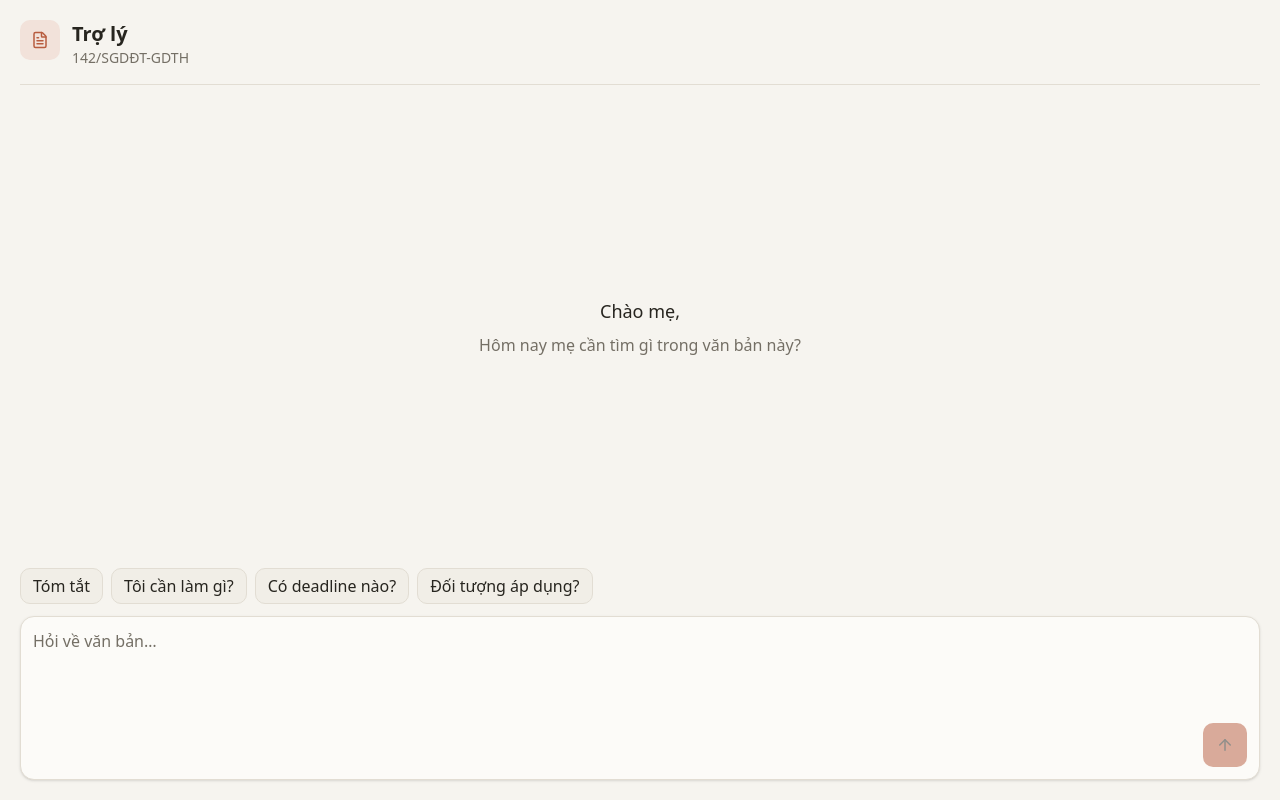
Test: AssistantPanel › submits a question through the document QA endpoint and renders the answer via AnswerView
Type "Văn bản yêu cầu gì?" into the text box named "Câu hỏi" at (640, 669), box [33,629,1247,709]
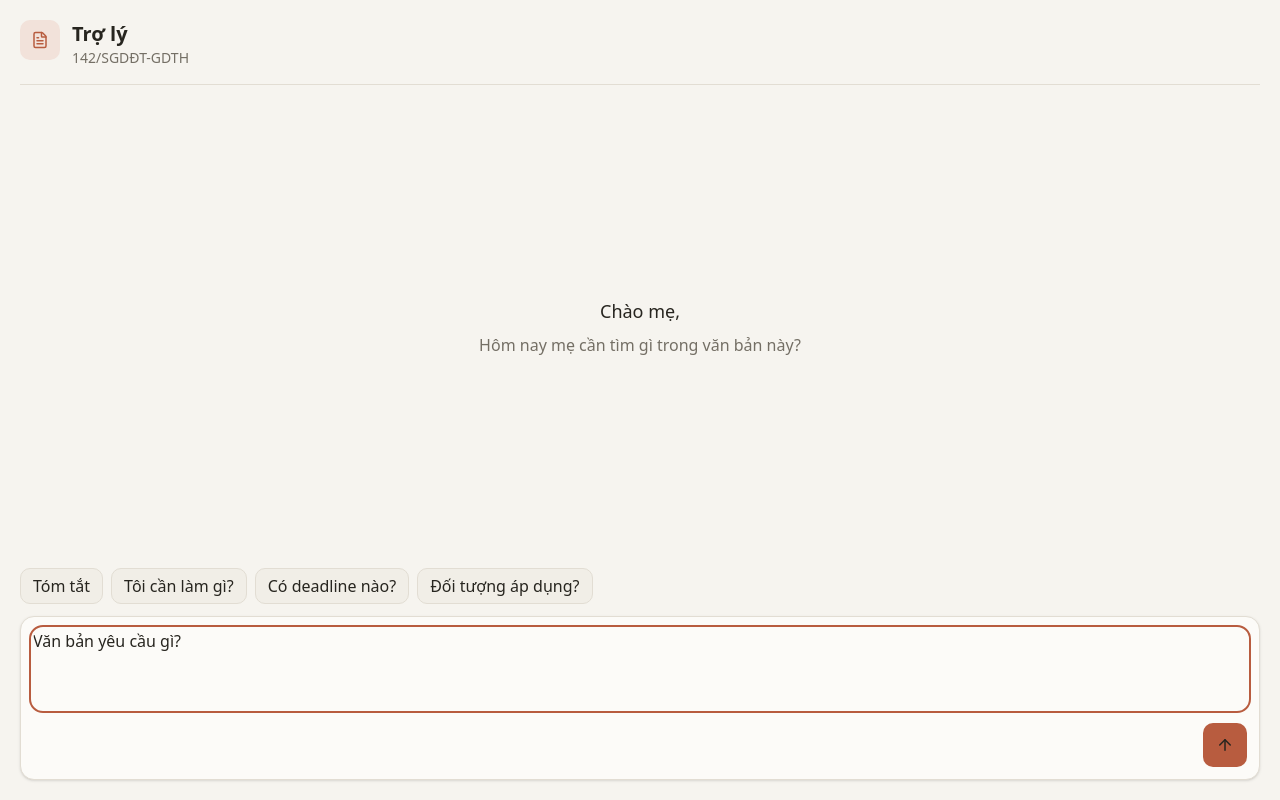
Click the button named "Gửi câu hỏi" at (1225, 745), box [1203,723,1247,767]
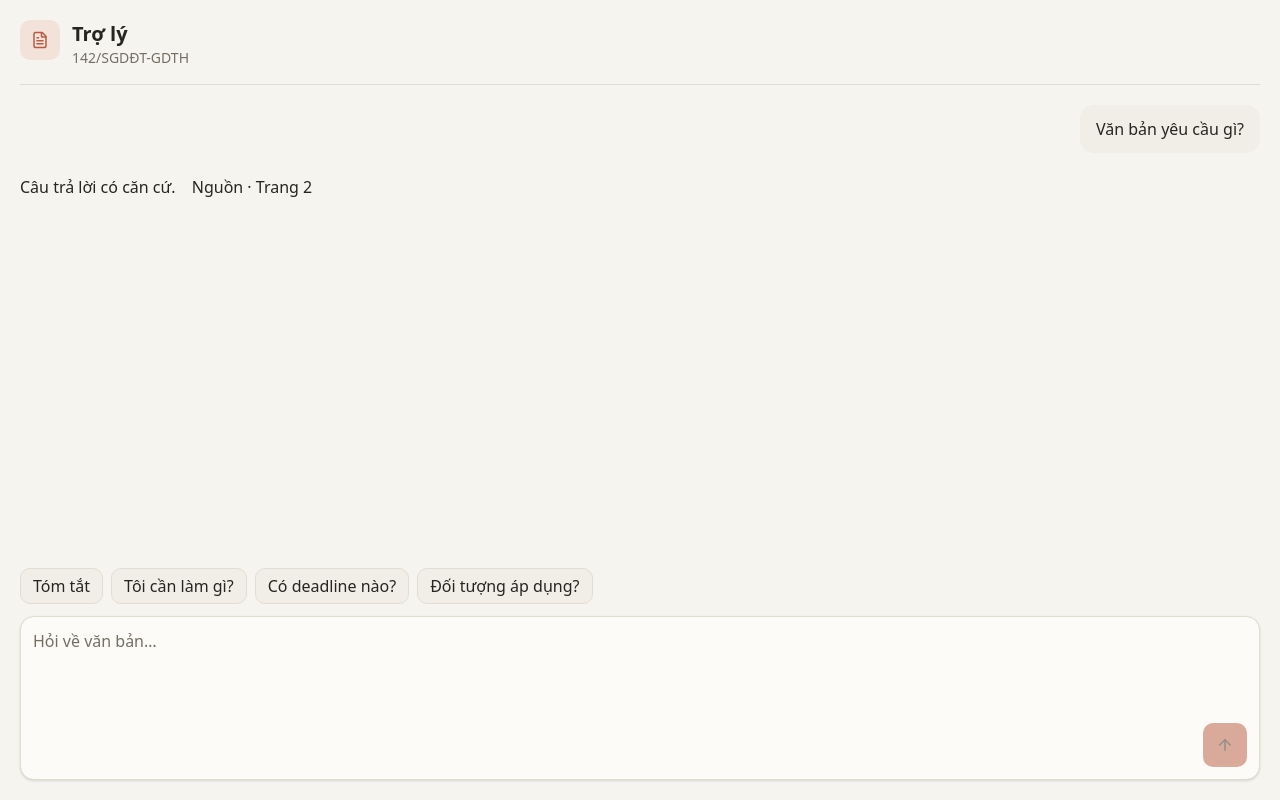
Now the text "Câu trả lời có căn cứ." is shown, box [20,176,180,198]
Now the button with test id "citation-chip-c1" is shown, box [180,169,324,205]
